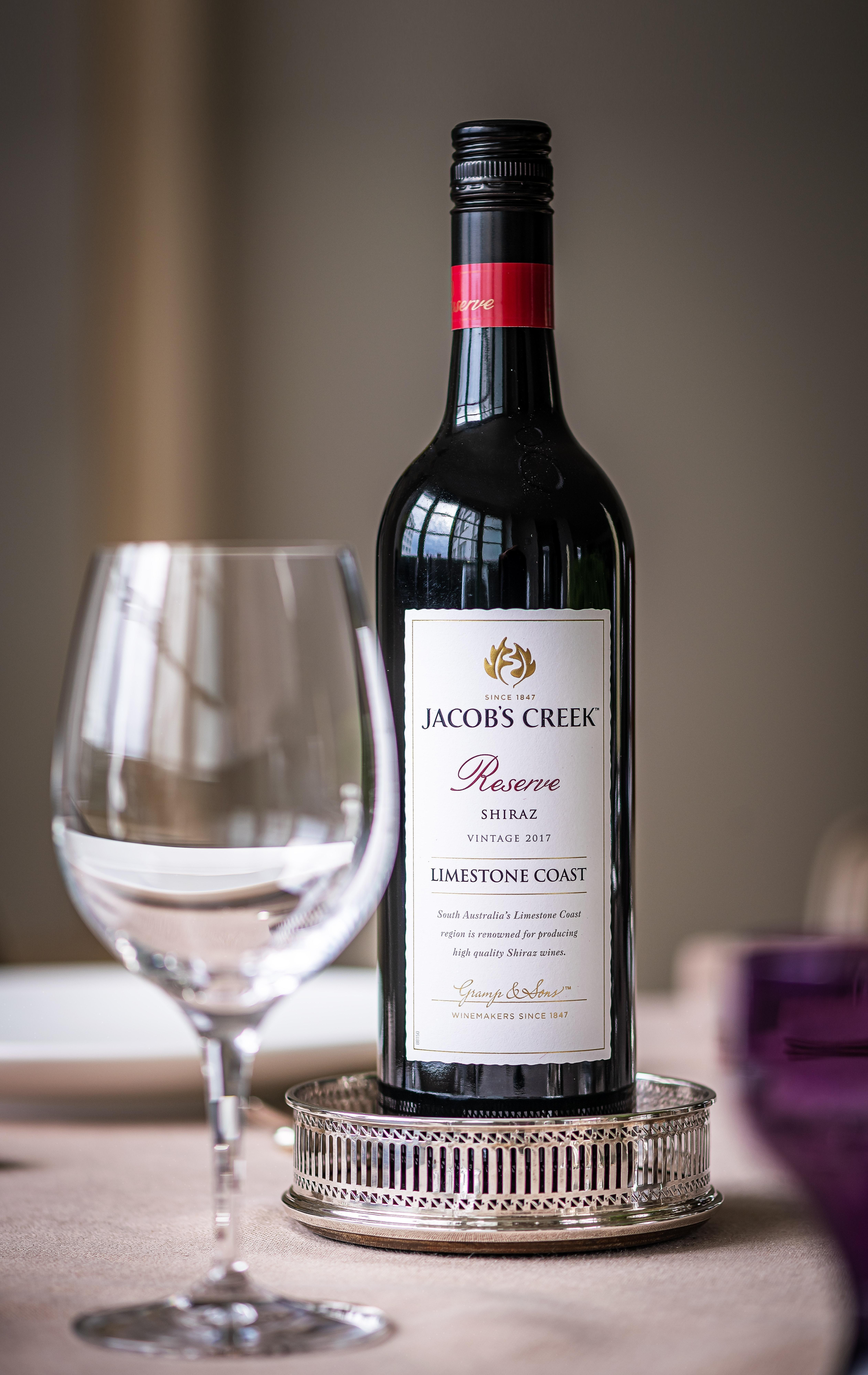bottle-glass: (373, 112, 650, 1111)
glass-wine: (48, 530, 401, 1364)
